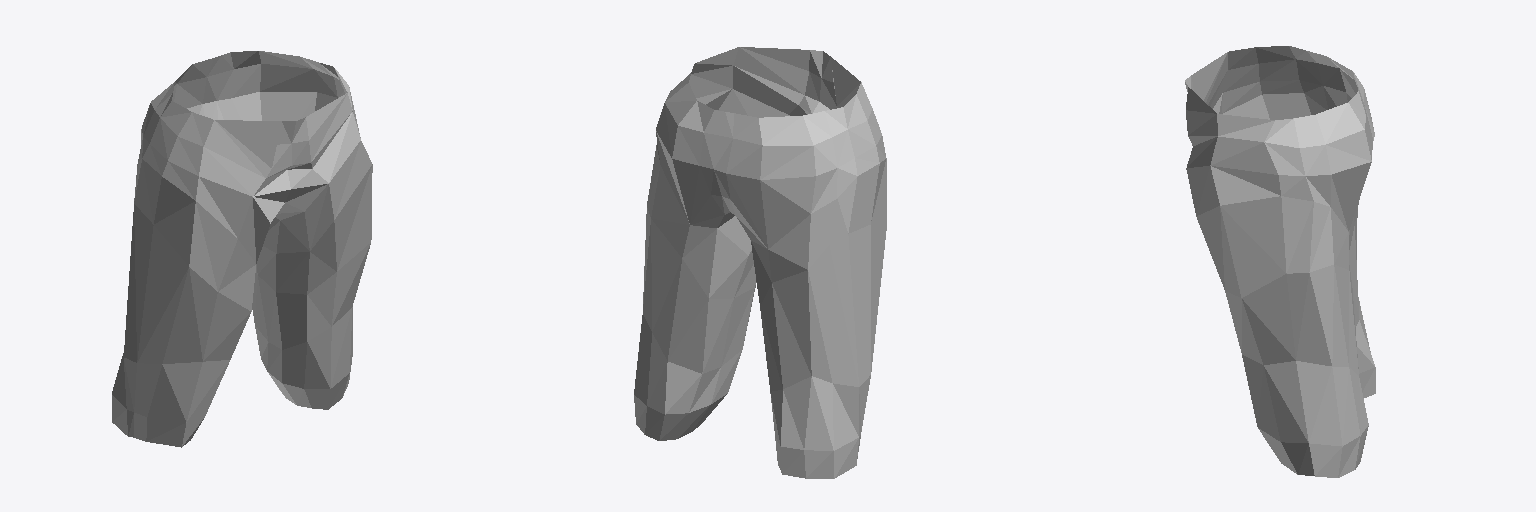
The model's file is Pants.obj.
3 views of the same model, side by side, from view 1: azimuth 30°, elevation 25°; view 2: azimuth 150°, elevation 25°; view 3: azimuth 270°, elevation 25° (orthographic).
Parts seen in each view (by area): view 1: polySurface7 polySurface4 GengiJedi__3_:foot_ex:Mesh1; view 2: polySurface7 polySurface4 GengiJedi__3_:foot_ex:Mesh1; view 3: polySurface7 polySurface4 GengiJedi__3_:foot_ex:Mesh1.
Part boxes in pixels (x1,y1,x2,y2): polySurface7 polySurface4 GengiJedi__3_:foot_ex:Mesh1: (112, 51, 372, 447); polySurface7 polySurface4 GengiJedi__3_:foot_ex:Mesh1: (634, 47, 886, 478); polySurface7 polySurface4 GengiJedi__3_:foot_ex:Mesh1: (1185, 46, 1375, 477).
Size of the model in its own units: 22.17 by 32.7 by 16.43.